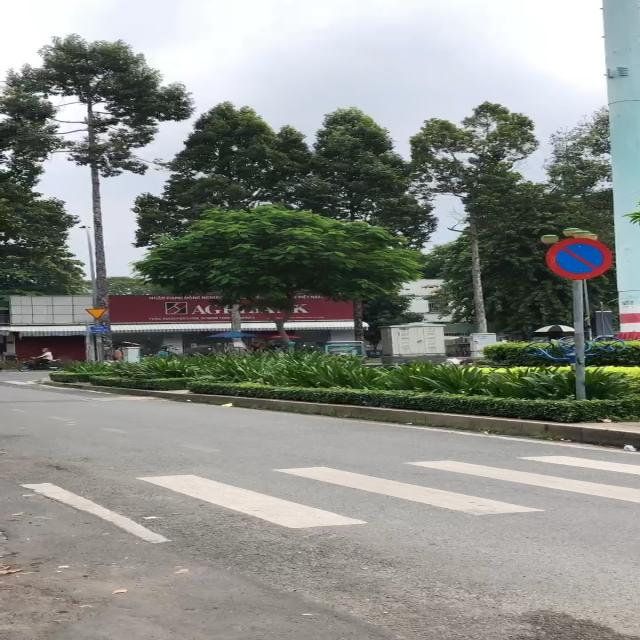Bien bao cam do xe: (539, 233, 621, 279)
Bien bao giao nhau voi duong uu tien: (84, 308, 111, 321)
